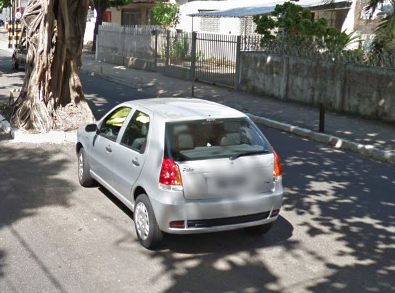car: (67, 83, 294, 254)
